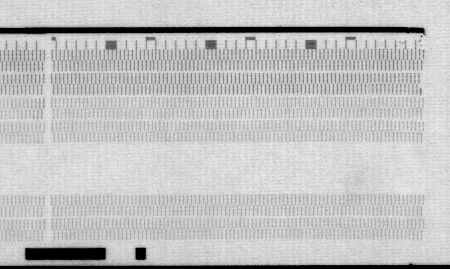Broken hole: (2, 143, 427, 198)
Oblique printing: (416, 82, 426, 97)
